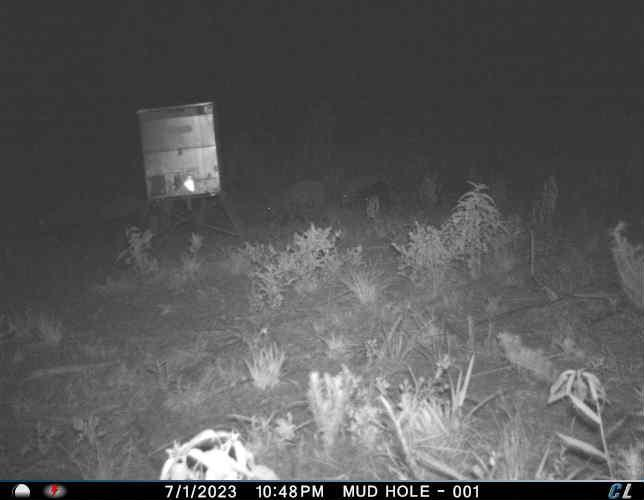Hog: (260, 175, 329, 236), (337, 173, 391, 212)
